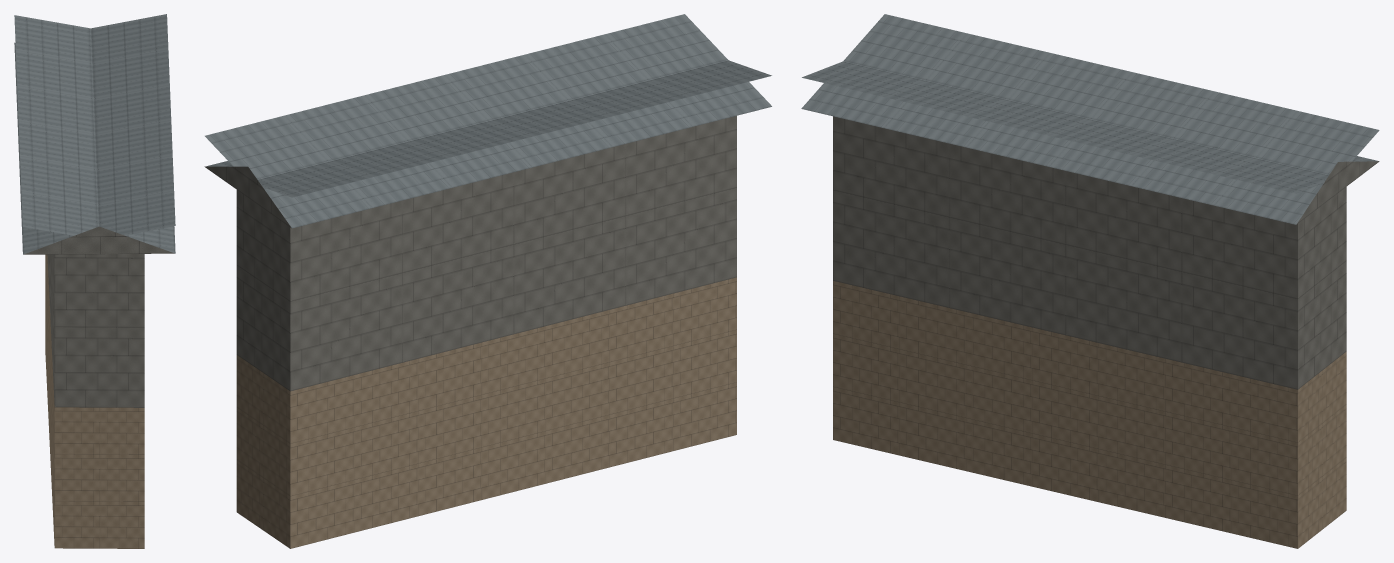
Rendered from bld_c-1_3_518.gltf.
3 views of the same model, side by side, from view 1: azimuth 30°, elevation 25°; view 2: azimuth 150°, elevation 25°; view 3: azimuth 270°, elevation 25° (orthographic). The views are drawn at different scales.
Visible parts, largest first — view 1: bld_c-1_3_518; view 2: bld_c-1_3_518; view 3: bld_c-1_3_518.
Boxes of the visible parts, x1,y1,x2,y2 form: bld_c-1_3_518: [14, 14, 175, 548]; bld_c-1_3_518: [204, 14, 771, 548]; bld_c-1_3_518: [801, 14, 1379, 548].
Size of the model in its own units: 12.35 by 11.9 by 16.8.
Materials: 4 (4 with a texture image).
